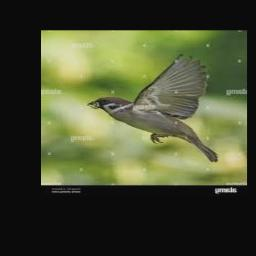Sparrow: (88, 54, 218, 162)
